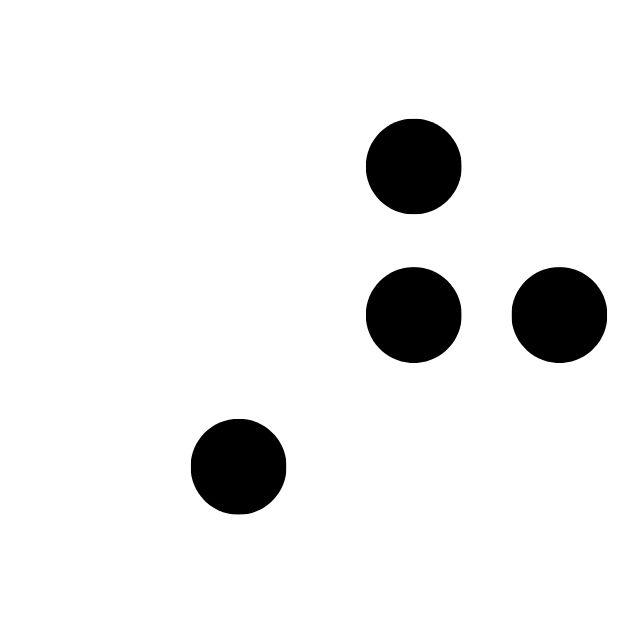H: (366, 117, 605, 515)
capital: (50, 118, 289, 516)
